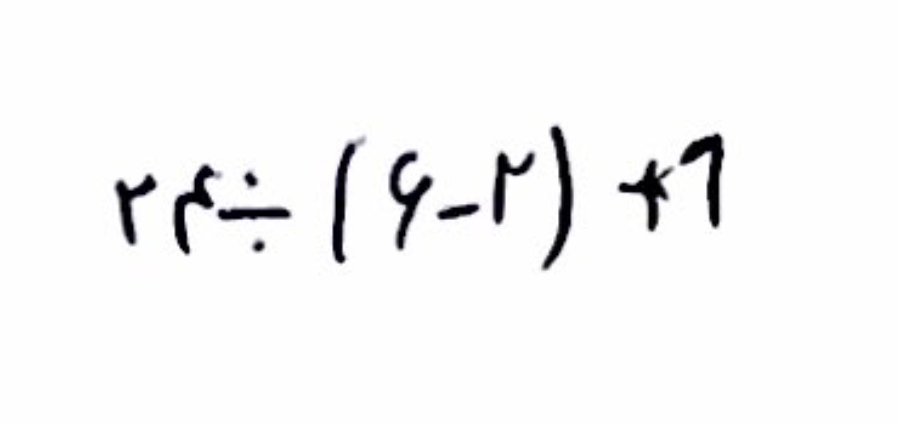character: (218, 171, 292, 251), (680, 134, 726, 227), (330, 138, 363, 264), (389, 151, 431, 250), (544, 125, 572, 271), (172, 163, 214, 257), (617, 160, 674, 228), (112, 175, 155, 247), (494, 153, 537, 222), (437, 204, 480, 222)
